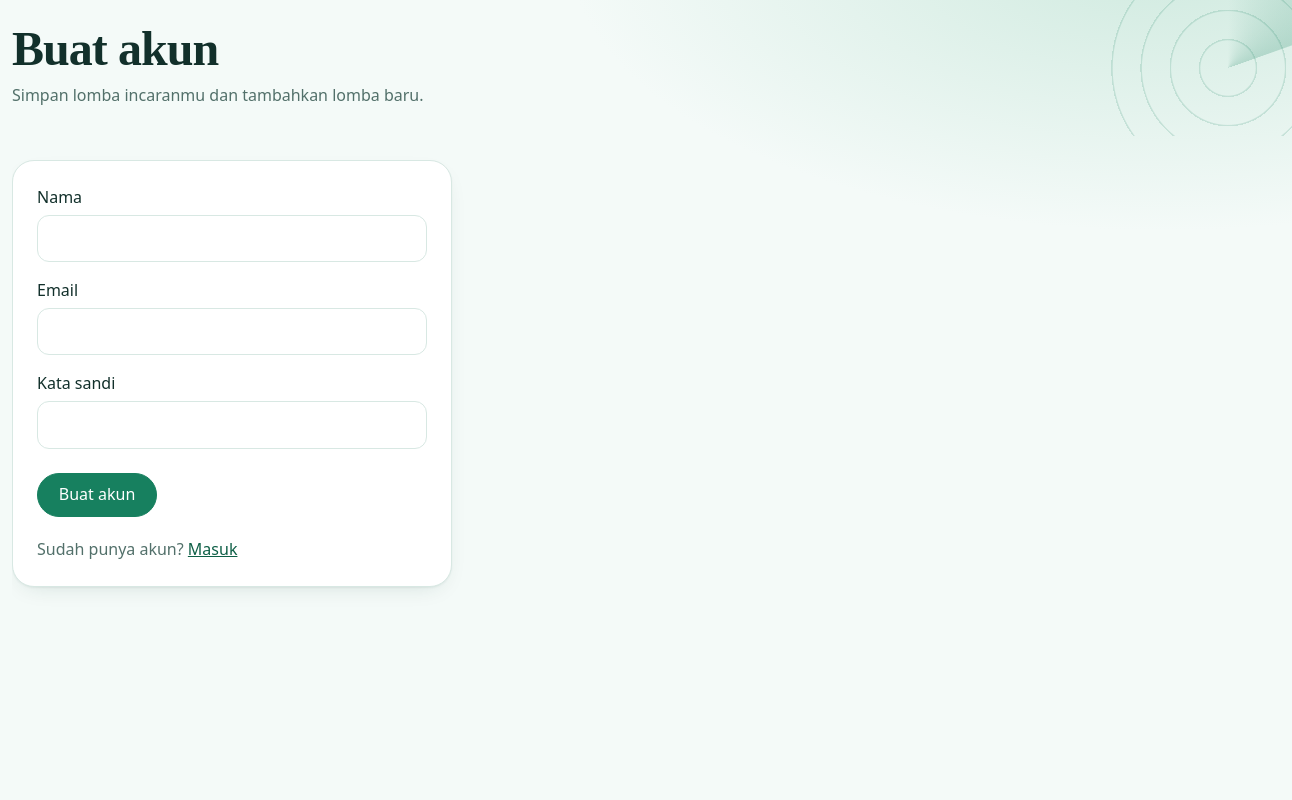
Test: halaman Daftar › daftar gagal (email sudah terdaftar) menampilkan pesan error
The image size is (1292, 800).
Type "Andi" into the field labelled "Nama" at coordinates (232, 238), box [37,215,427,262]
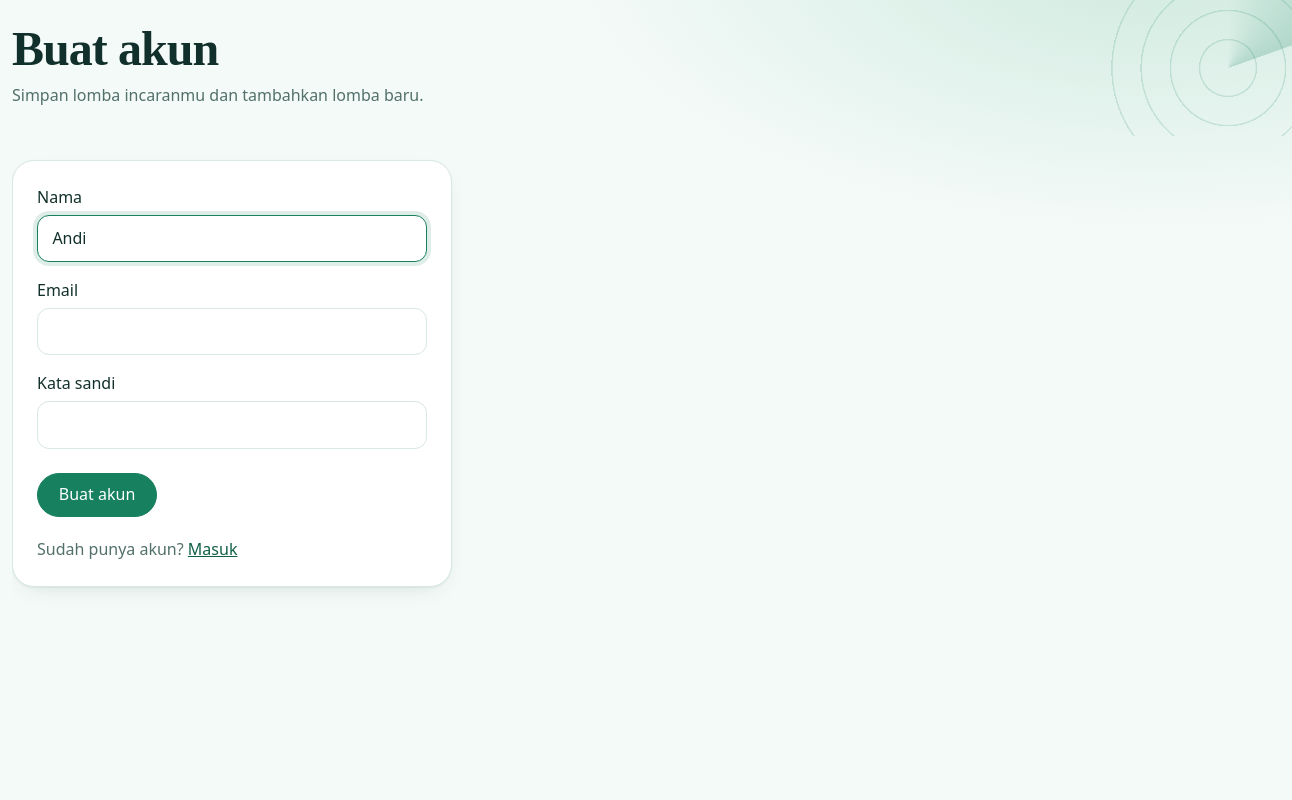
Type "andi@uji.id" into the field labelled "Email" at coordinates (232, 332), box [37,308,427,355]
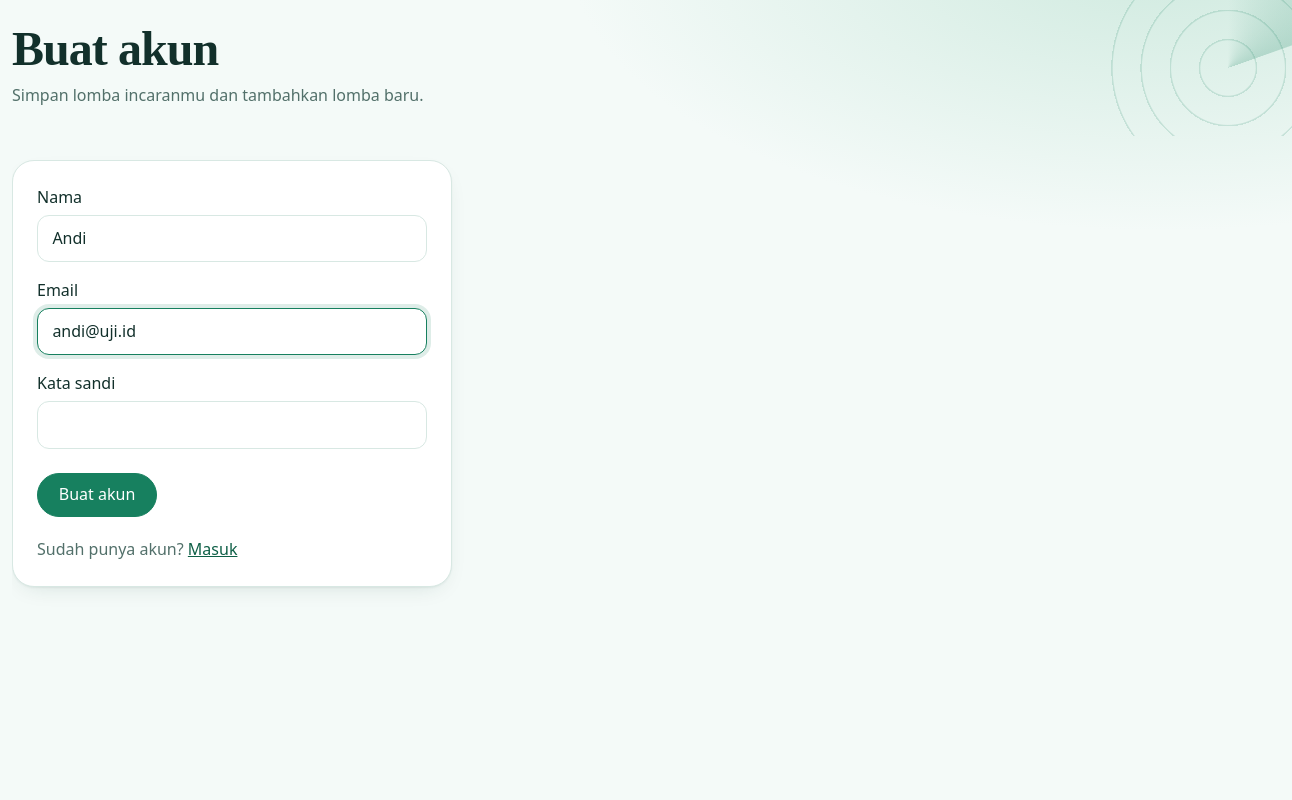
Type "andi123" into the password field labelled "Kata sandi" at coordinates (232, 425), box [37,401,427,448]
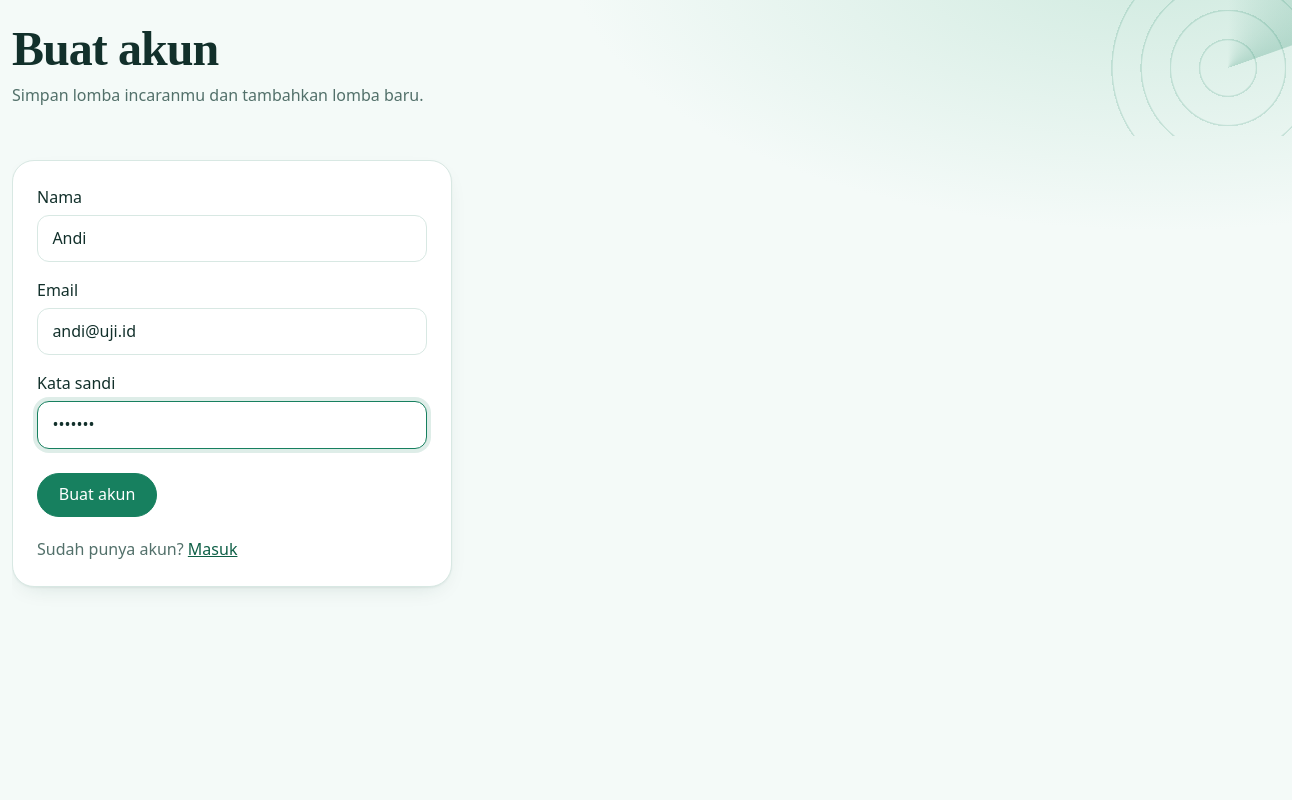
Click the button "Buat akun" at coordinates (97, 495), box [37,472,157,517]
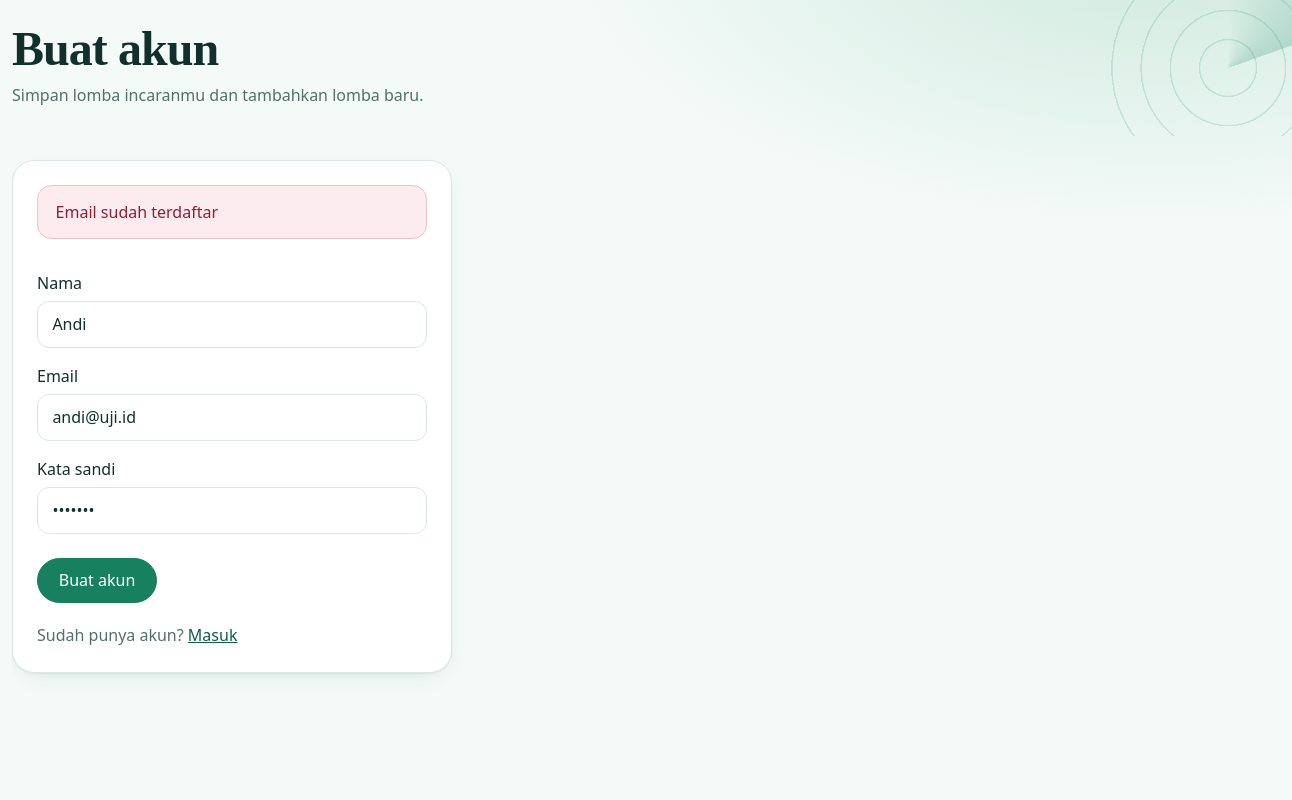
expect the message reads "Email sudah terdaftar": met, box [56,201,218,223]
